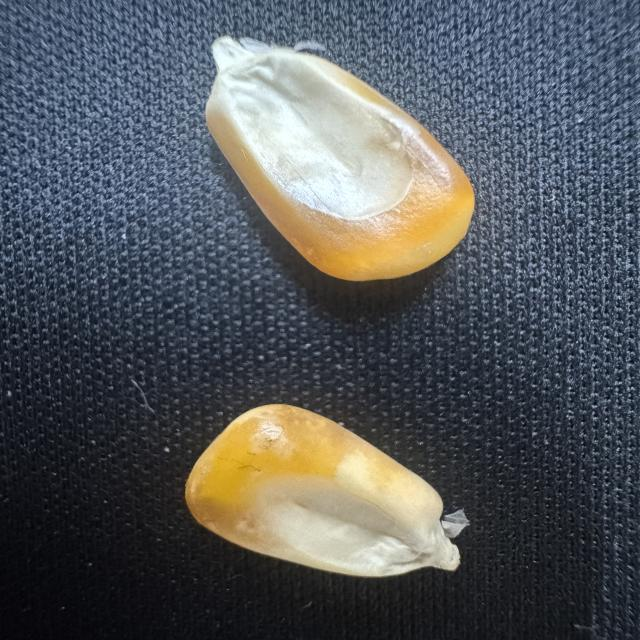Good-Seed: (200, 30, 480, 285), (177, 397, 475, 582)
